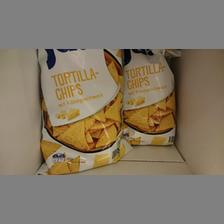Chips: (36, 50, 124, 174), (120, 48, 180, 146)
